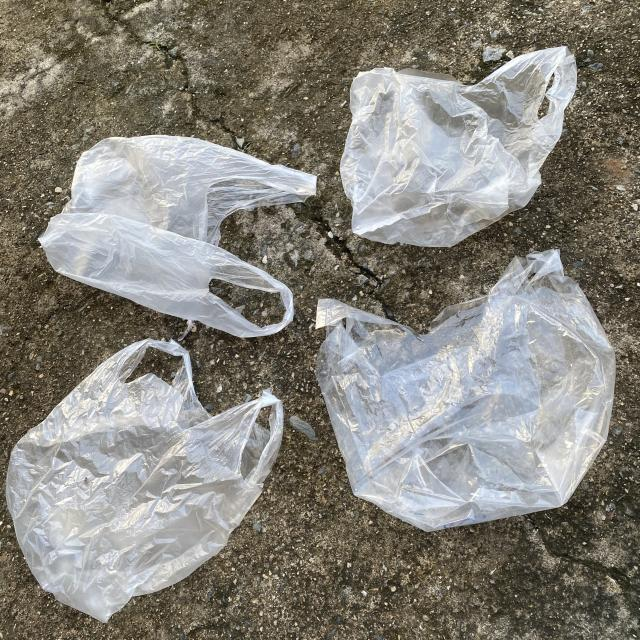Single-layer Plastic: (316, 250, 615, 531), (6, 339, 284, 622), (39, 135, 316, 338), (340, 46, 576, 246)
